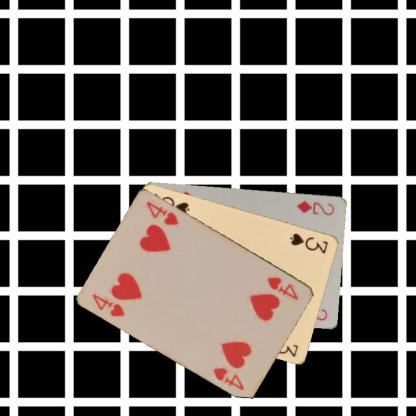2d: (294, 198, 336, 216)
3s: (287, 230, 329, 255)
4h: (90, 291, 127, 318), (264, 274, 300, 301)
